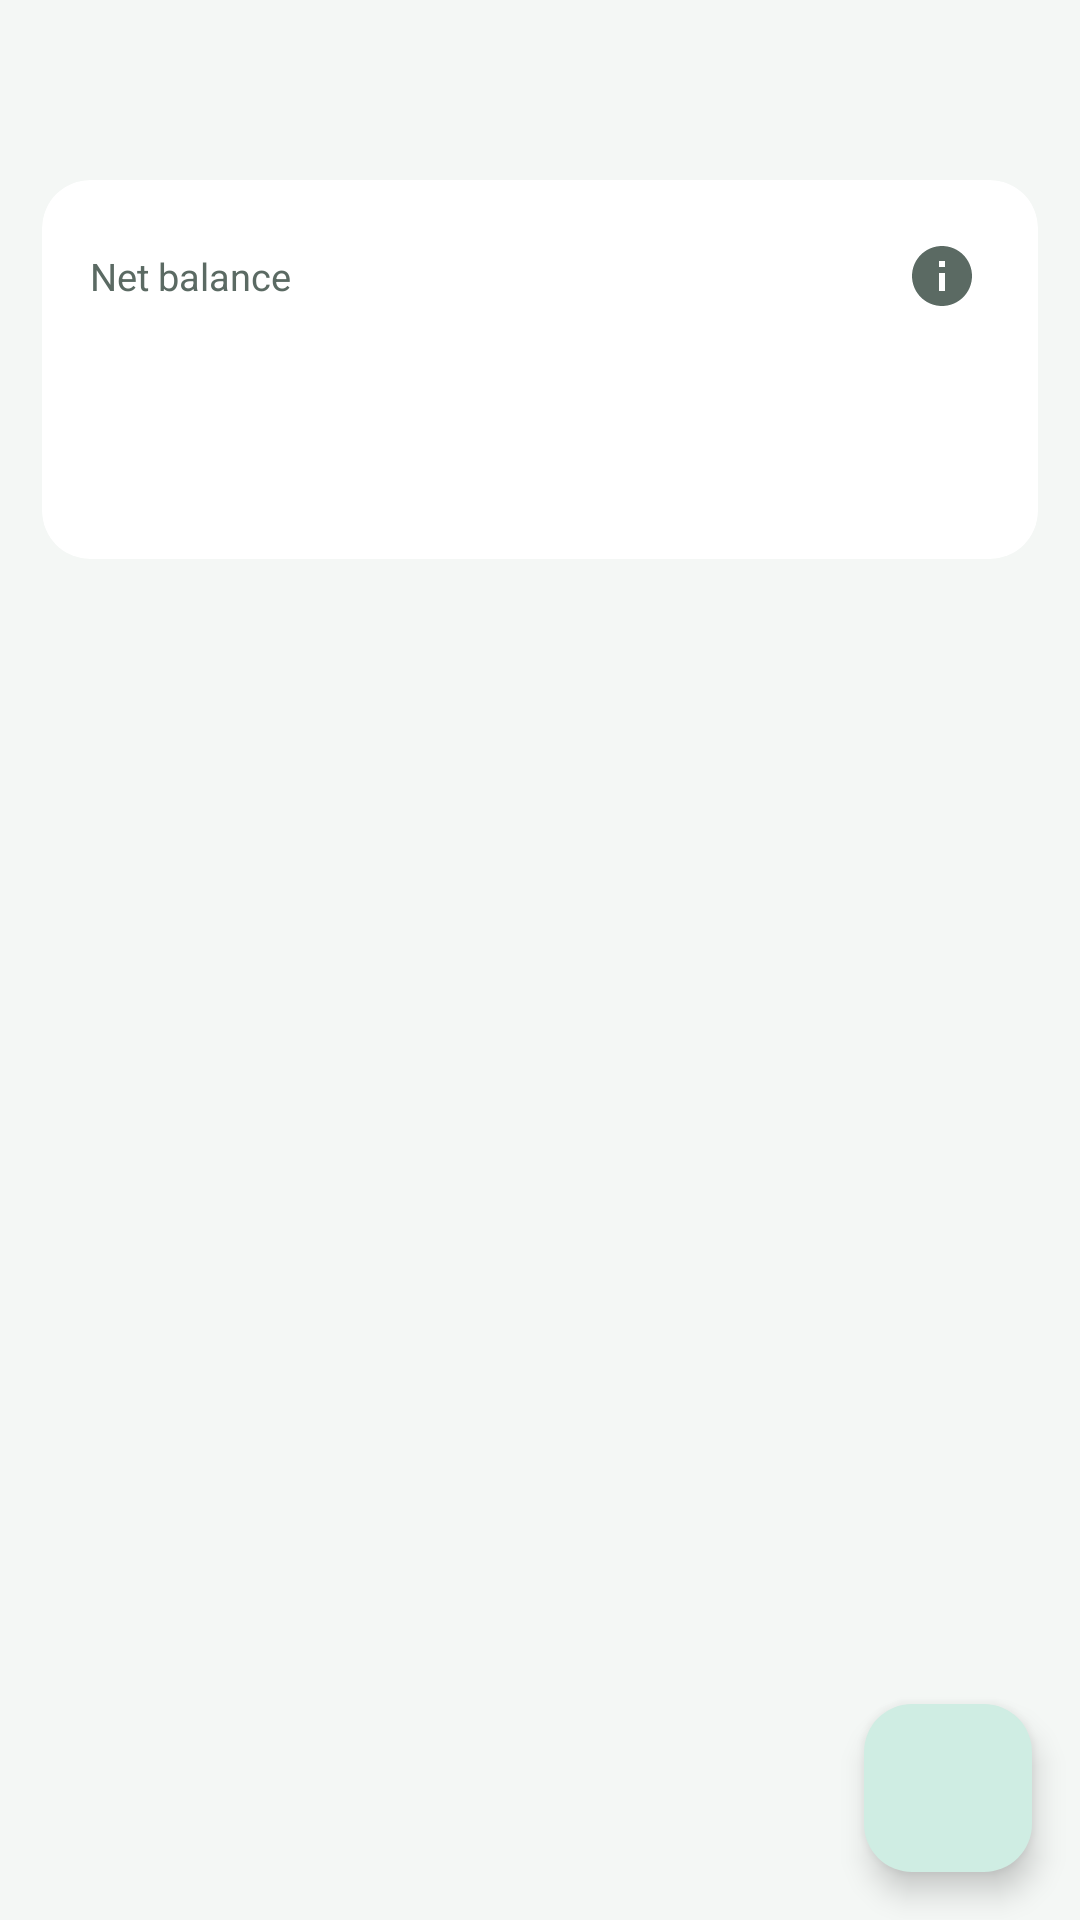

Where to tap for icons on this 1080 × 1920 app screen, as (x=x, y=y):
How this is calculated: (x=942, y=276)
